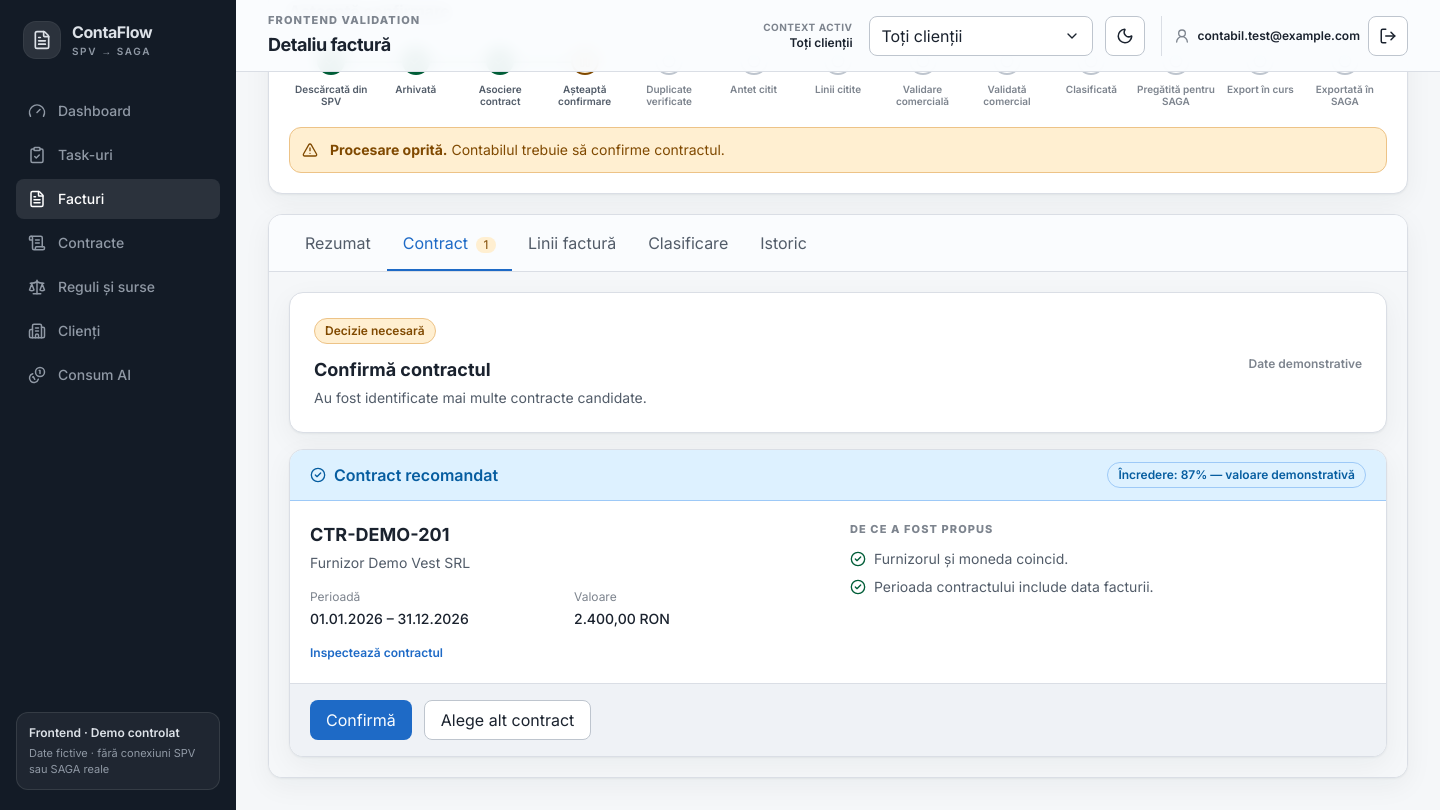
Test case: Contracts workspace › reassignment updates invoice state and the contract-associated invoice view
(page scrolled)
Click the button "Alege alt contract" at (508, 720), box [424,700,591,740]
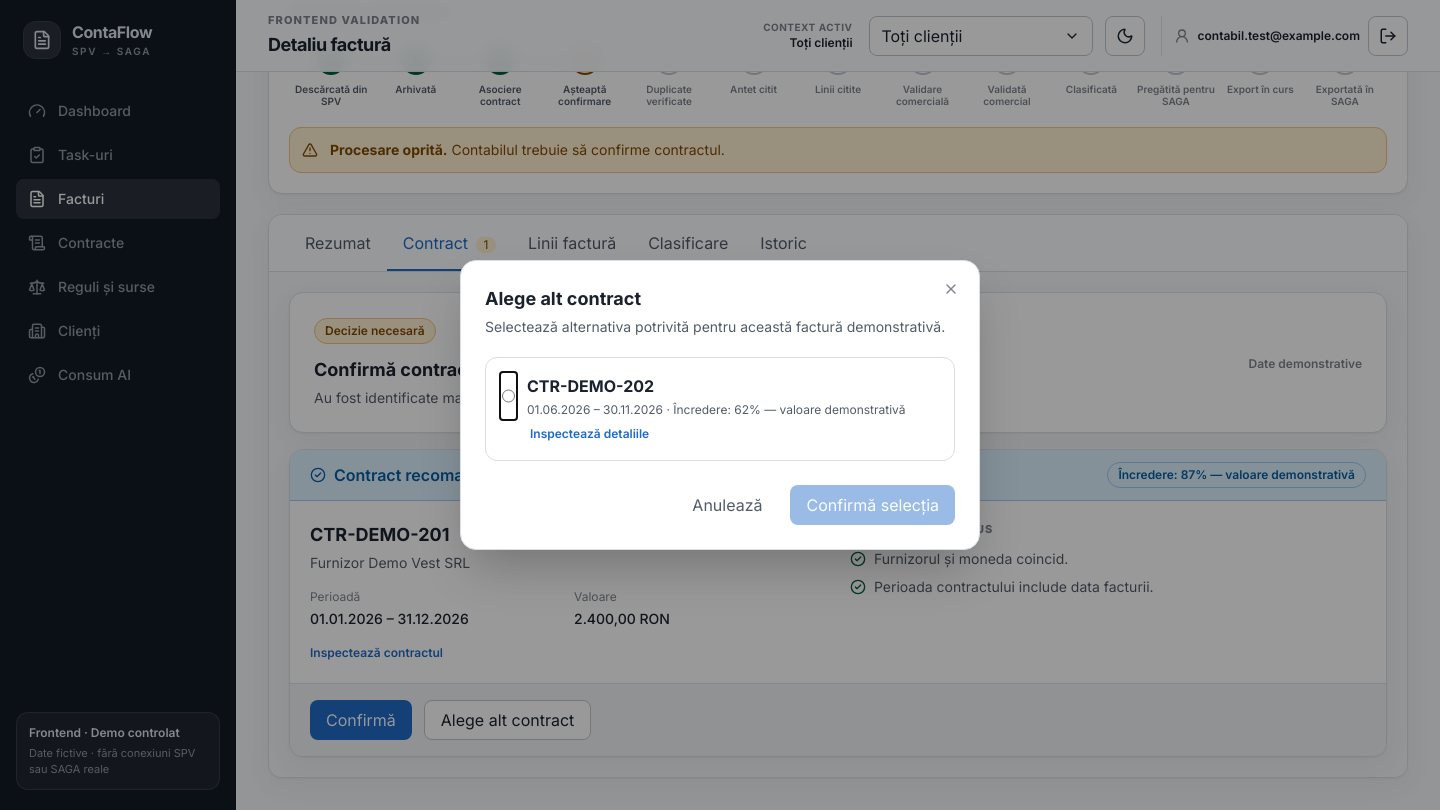
Click the radio button at (508, 396), box [502,374,515,418]
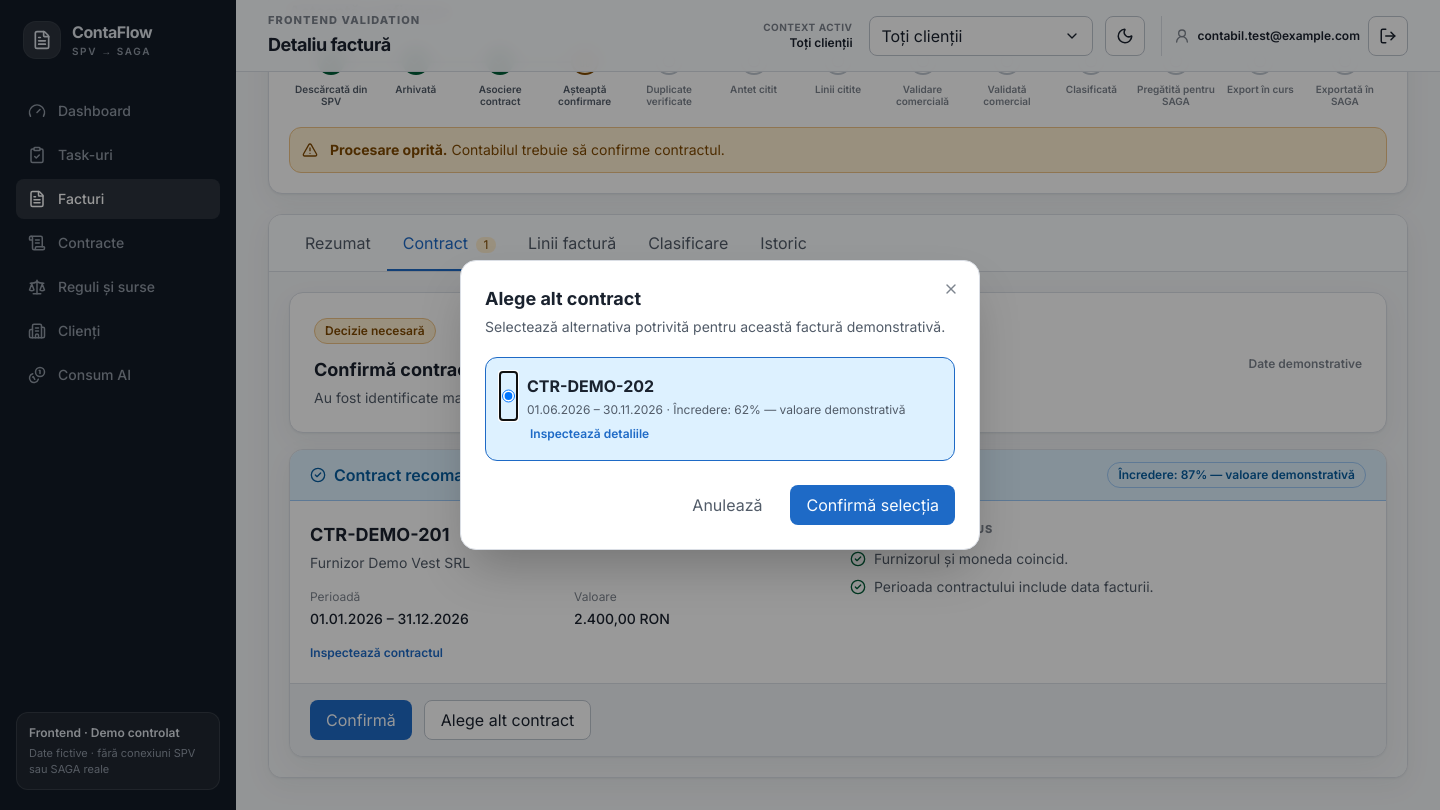
Click the button "Confirmă selecția" at (873, 505), box [790,485,955,525]
(page scrolled)
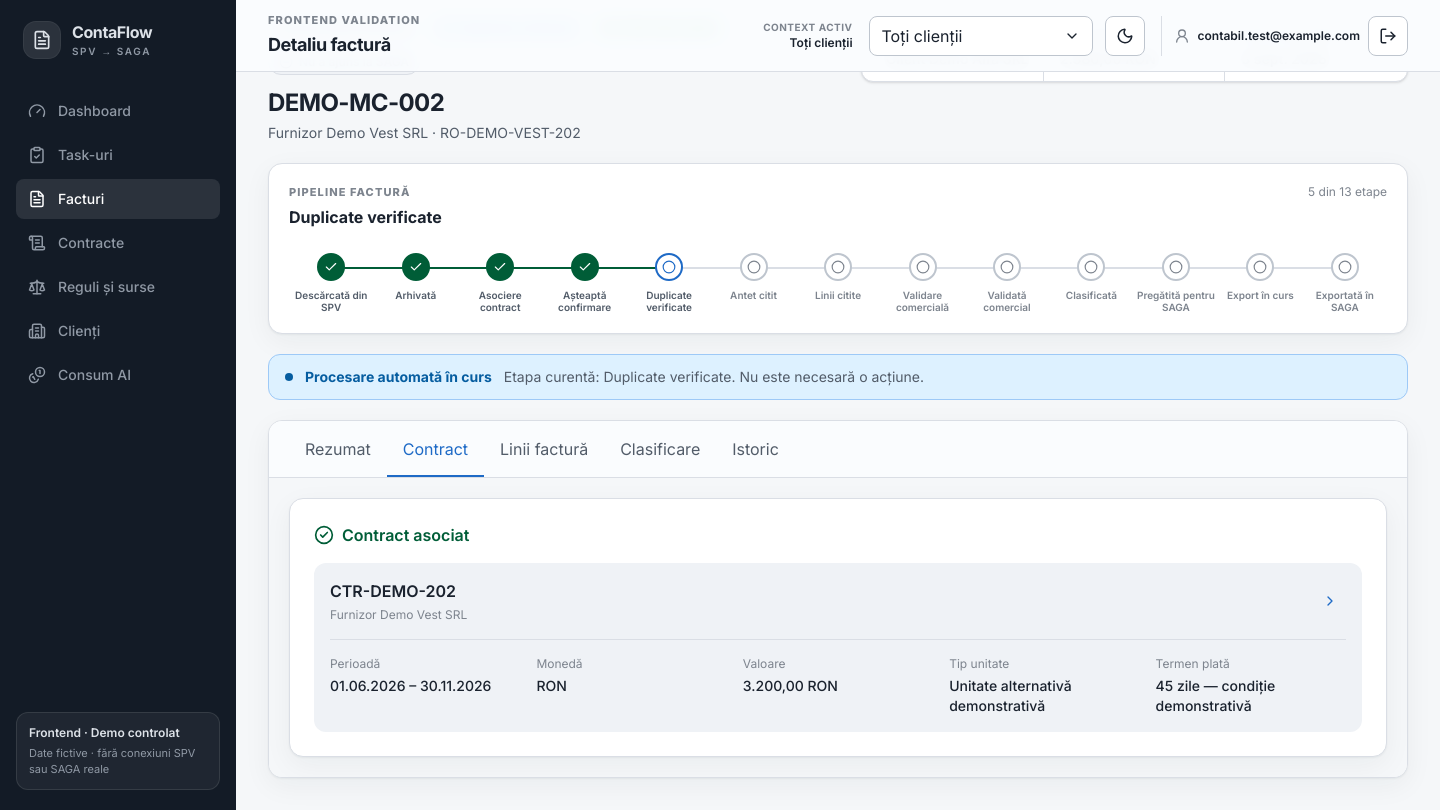
Result: the text "CTR-DEMO-202" is shown at [330,578,467,602]
Click the link named "Inspectează contractul CTR-DEMO-202" at (1330, 600), box [1322,592,1338,608]
(page scrolled)
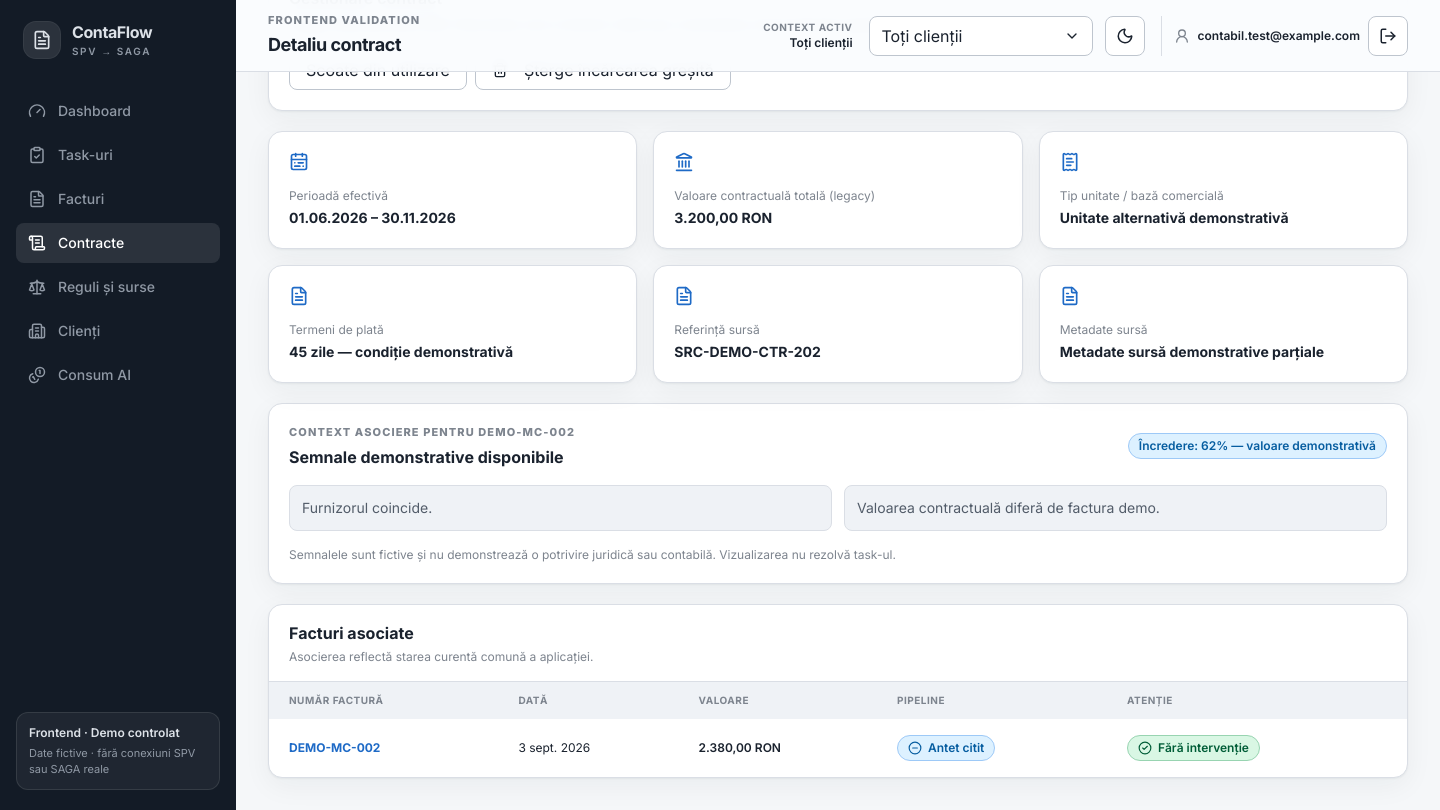
Result: the link "DEMO-MC-002" is shown at [289,740,380,755]
